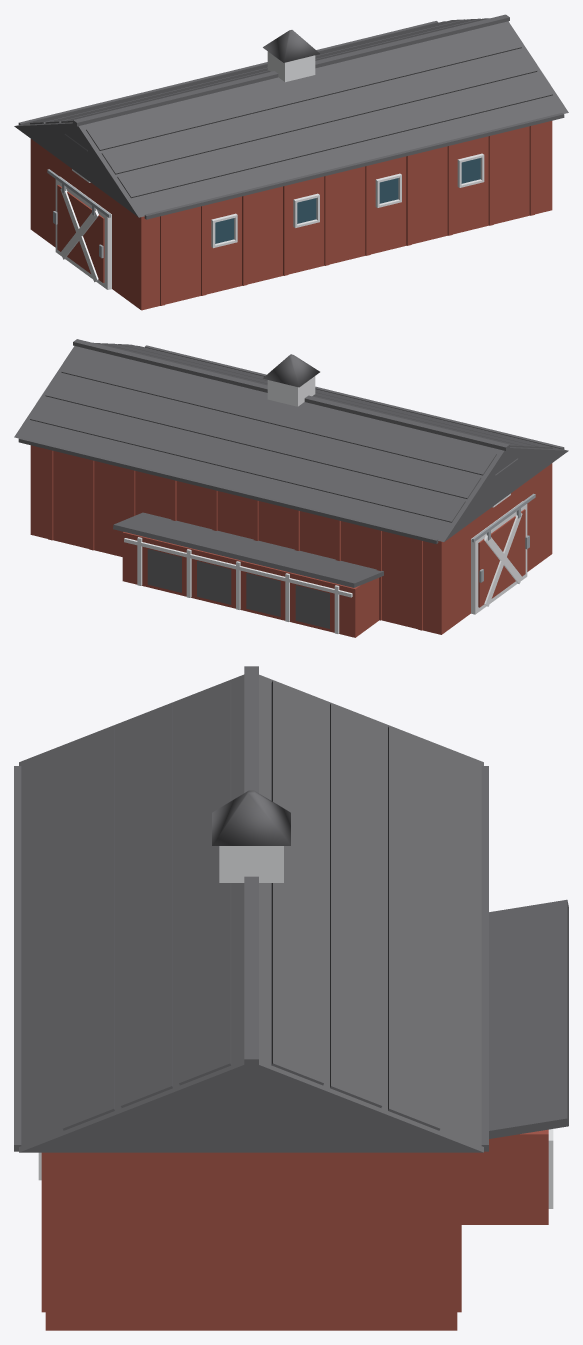
Rendered from barn.glb.
The picture shows the model from 3 angles, top to bottom: view 1: azimuth 30°, elevation 25°; view 2: azimuth 150°, elevation 25°; view 3: azimuth 270°, elevation 25°; orthographic projection. The views are drawn at different scales.
Parts seen in each view (by area): view 1: Merged_RoofDark, Merged_CityBarnRed, Merged_CityWhitePaint, Merged_WindowGlassDark, Merged_PropsMetal; view 2: Merged_RoofDark, Merged_CityBarnRed, Merged_CityWhitePaint, Merged_PropsMetal; view 3: Merged_RoofDark, Merged_CityBarnRed, Merged_CityWhitePaint.
Boxes of the visible parts, x1,y1,x2,y2 form: Merged_RoofDark: (14,14,568,219); Merged_CityBarnRed: (30,121,552,310); Merged_CityWhitePaint: (55,51,484,289); Merged_WindowGlassDark: (215,158,480,243); Merged_PropsMetal: (47,169,110,258); Merged_RoofDark: (14,339,568,628); Merged_CityBarnRed: (30,445,552,637); Merged_CityWhitePaint: (124,376,527,633); Merged_PropsMetal: (472,493,535,582); Merged_RoofDark: (14,666,568,1152); Merged_CityBarnRed: (41,1129,548,1330); Merged_CityWhitePaint: (38,846,553,1208).
Size of the model in its own units: 31.6 by 13.2 by 18.87.
